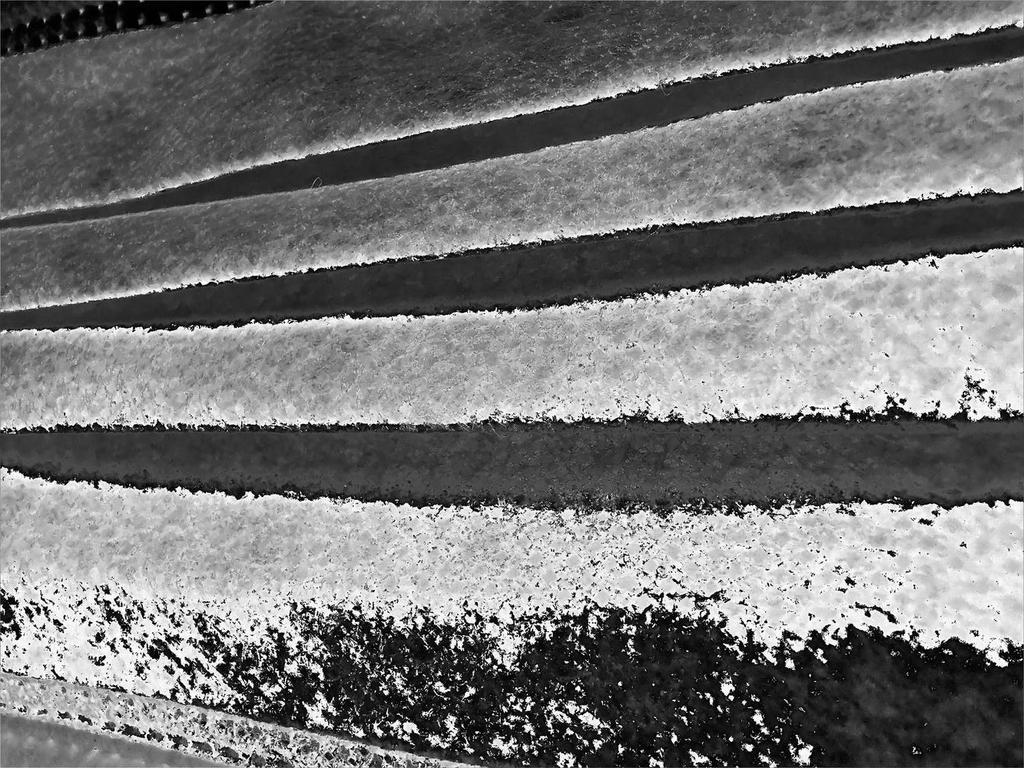High GSM: (3, 1, 1022, 767)
